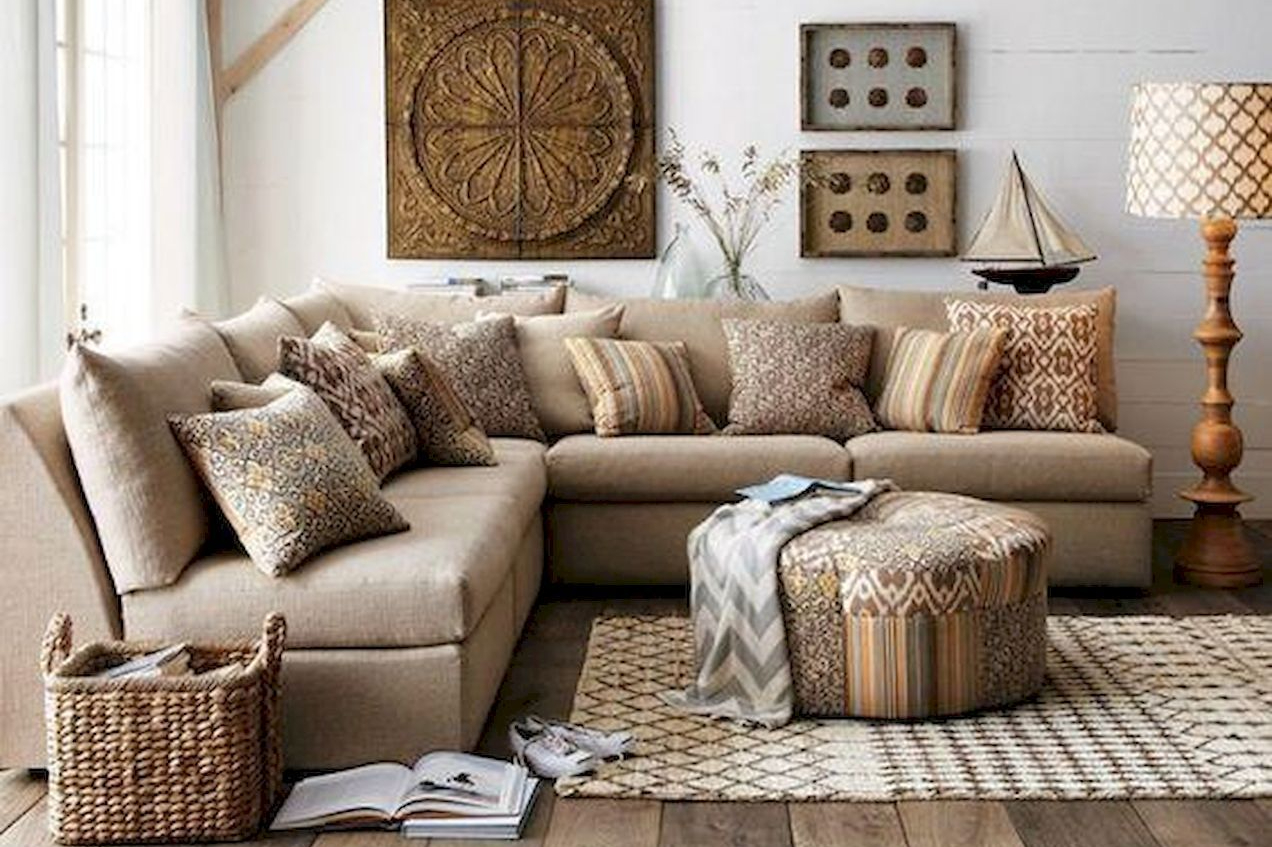bantal: (166, 398, 398, 558), (378, 314, 536, 440), (955, 302, 1102, 436), (724, 317, 874, 438), (564, 334, 702, 435), (883, 331, 991, 433)
buku: (268, 755, 557, 847)
lampu: (1121, 55, 1272, 601)
lukisan: (790, 18, 960, 138), (794, 147, 960, 264)
sova: (254, 283, 1167, 602), (1, 245, 507, 766)
tanaman: (635, 140, 815, 275)
